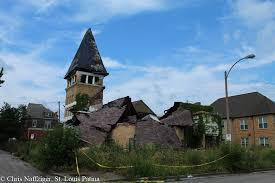sagging_roof: (95, 96, 175, 151)
